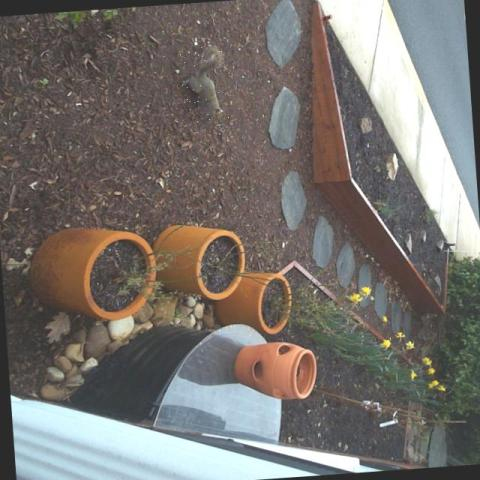small_animal: (178, 42, 226, 123)
